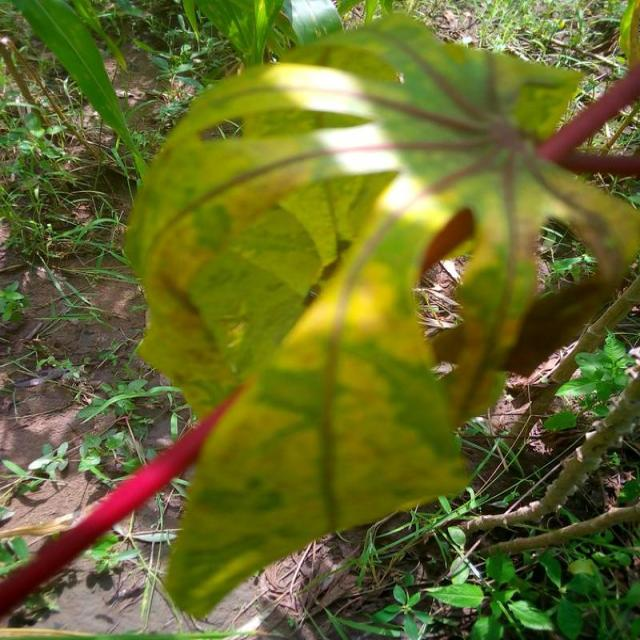cassava leaf: (122, 11, 639, 620)
